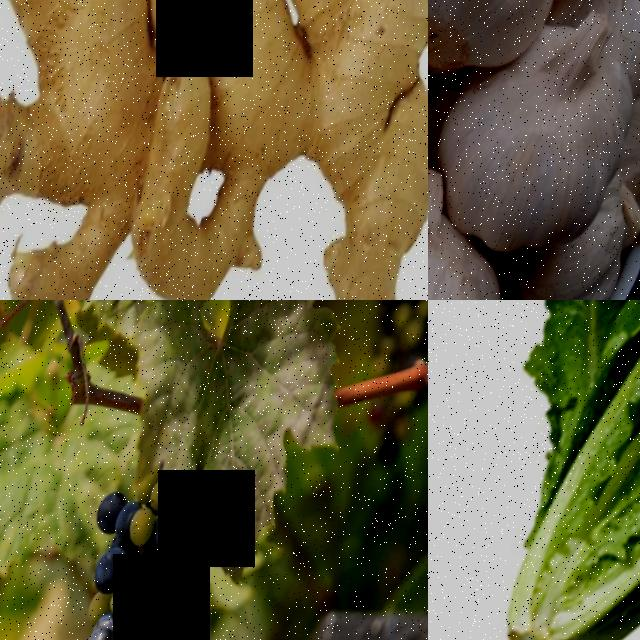garlic: (430, 31, 640, 272), (428, 0, 582, 78), (428, 215, 526, 300)
ginger: (0, 0, 428, 300)
grapes: (27, 557, 194, 640)
lettuce: (466, 300, 640, 613)
